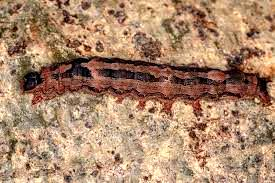Caterpillar: (15, 50, 271, 109)
